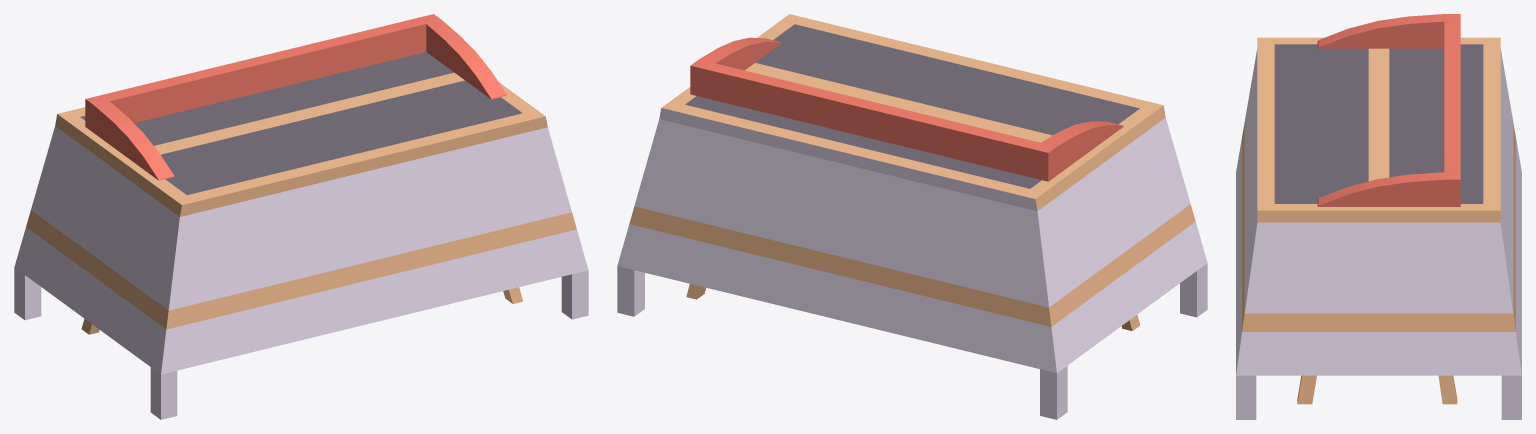
The model's file is Table_N_Chair_03.fbx.
3 views of the same model, side by side, from view 1: azimuth 30°, elevation 25°; view 2: azimuth 150°, elevation 25°; view 3: azimuth 270°, elevation 25° (orthographic). The views are drawn at different scales.
Parts seen in each view (by area): view 1: Table_Level_03, Shofa_Level_03; view 2: Table_Level_03, Shofa_Level_03; view 3: Table_Level_03, Shofa_Level_03.
Part boxes in pixels (x1=…): Table_Level_03: x1=14, y1=52, x2=588, y2=419; Shofa_Level_03: x1=81, y1=14, x2=522, y2=334; Table_Level_03: x1=617, y1=14, x2=1207, y2=419; Shofa_Level_03: x1=686, y1=37, x2=1140, y2=330; Table_Level_03: x1=1236, y1=37, x2=1521, y2=419; Shofa_Level_03: x1=1297, y1=14, x2=1460, y2=404.
Bounding box in the file's own units: 486 × 247 × 289.
2 materials, 2 textured.
